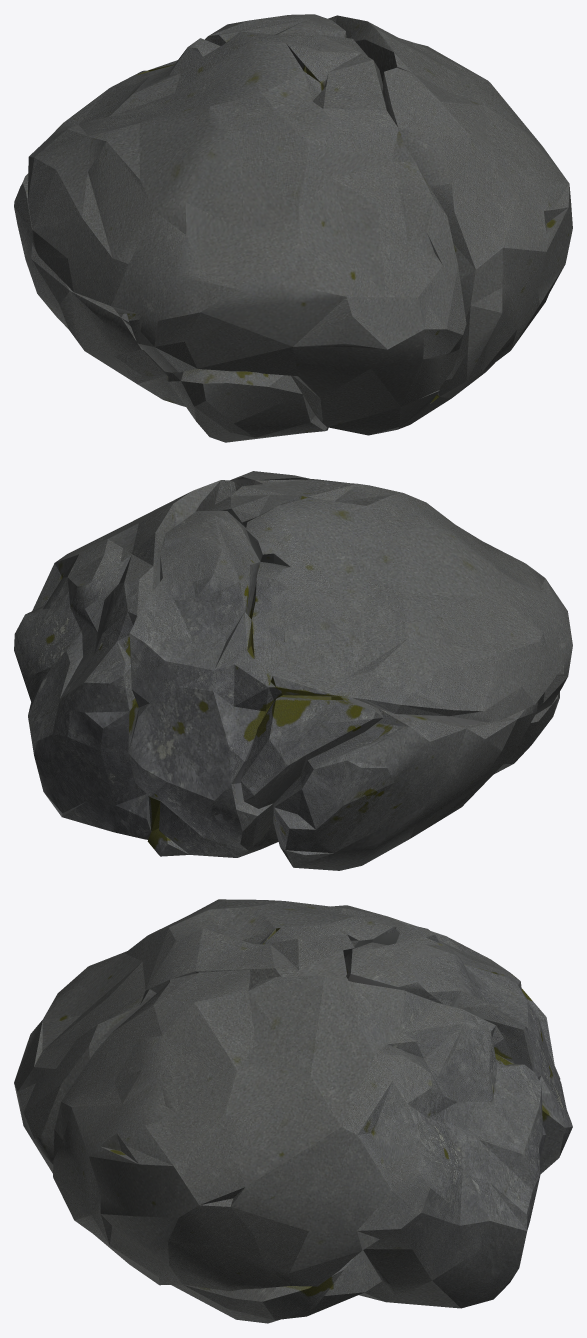
Rendered from rock.glb.
3 views of the same model, one above another, from view 1: azimuth 30°, elevation 25°; view 2: azimuth 150°, elevation 25°; view 3: azimuth 270°, elevation 25° (orthographic). The views are drawn at different scales.
Size of the model in its own units: 1.9 by 1.17 by 1.88.
1 material, 1 textured.
